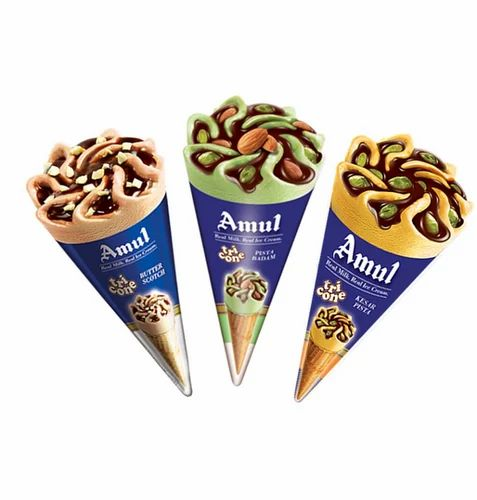Amul: (327, 228, 402, 291), (93, 226, 163, 262), (209, 210, 286, 238)
